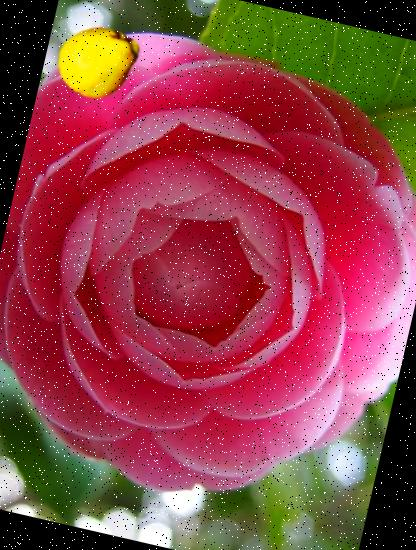Quince: (48, 10, 148, 110)
